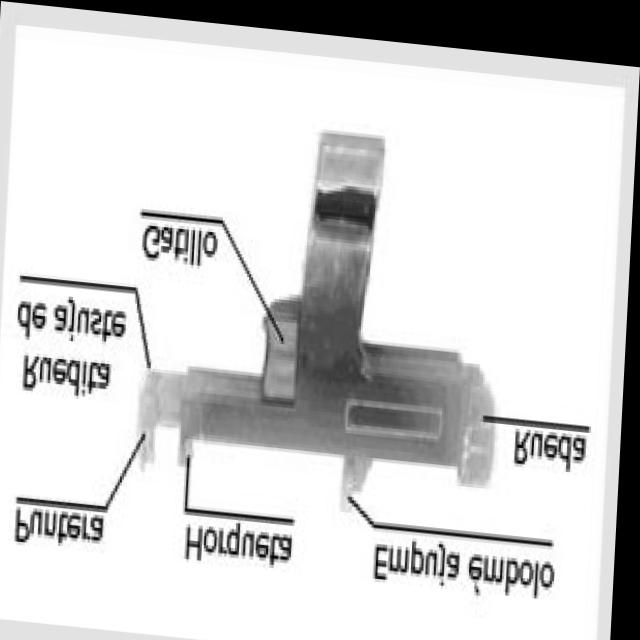handgun: (132, 107, 522, 497)
